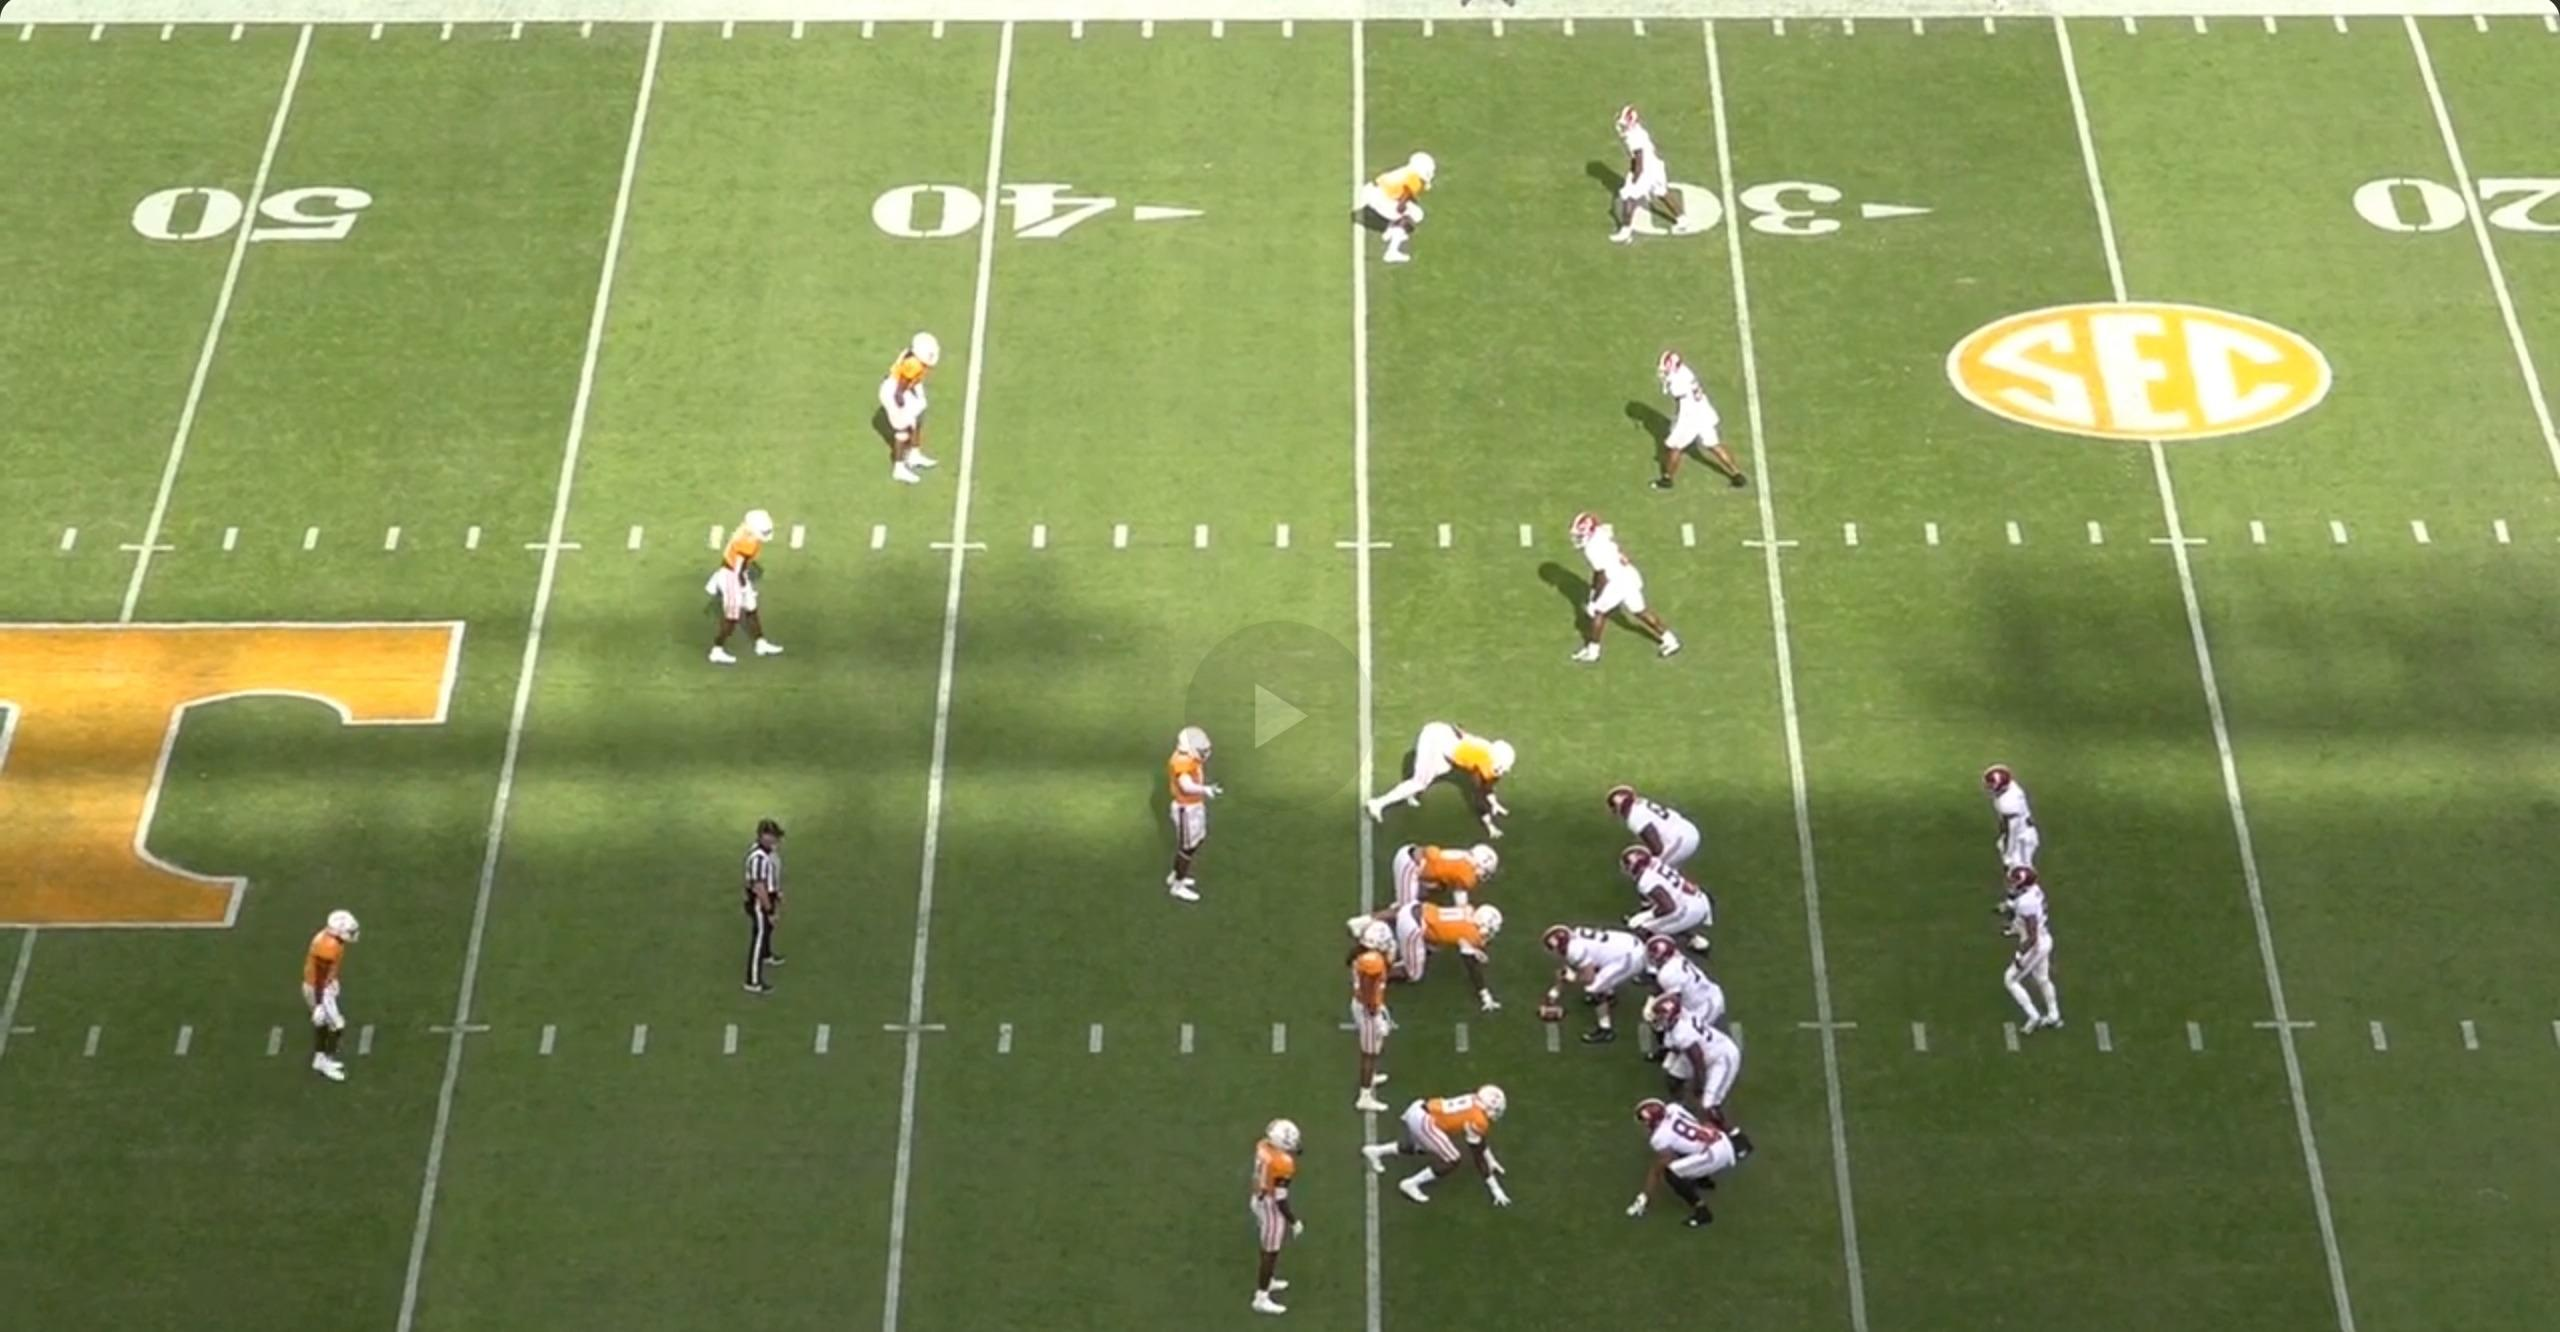player: (1559, 513, 1692, 673), (1363, 1077, 1514, 1212), (1359, 719, 1521, 841), (1618, 1100, 1745, 1239), (1244, 1113, 1326, 1323), (1635, 344, 1747, 497), (1342, 907, 1420, 1122), (1526, 921, 1652, 1051), (1391, 893, 1519, 1014), (1646, 1002, 1749, 1152), (1158, 721, 1233, 917), (1985, 866, 2068, 1037), (704, 509, 788, 675), (1372, 834, 1511, 929), (1597, 110, 1688, 253), (296, 910, 366, 1093), (872, 326, 949, 490), (1621, 846, 1722, 964), (1974, 763, 2038, 919), (1364, 147, 1447, 267), (1595, 780, 1697, 875), (1636, 941, 1725, 1034)
ref: (720, 821, 786, 1008)
